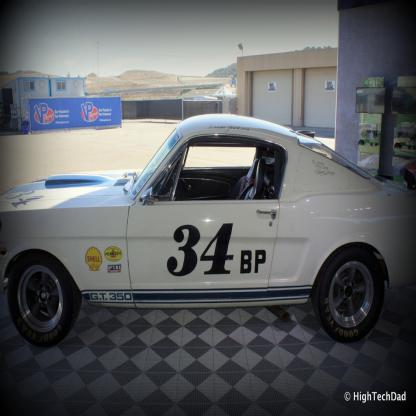Car: (1, 115, 416, 346)
